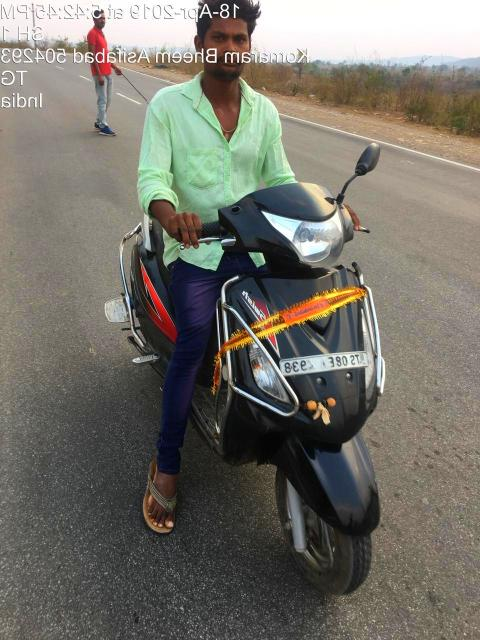motor: (104, 140, 392, 603)
non-helm: (189, 3, 265, 76)
